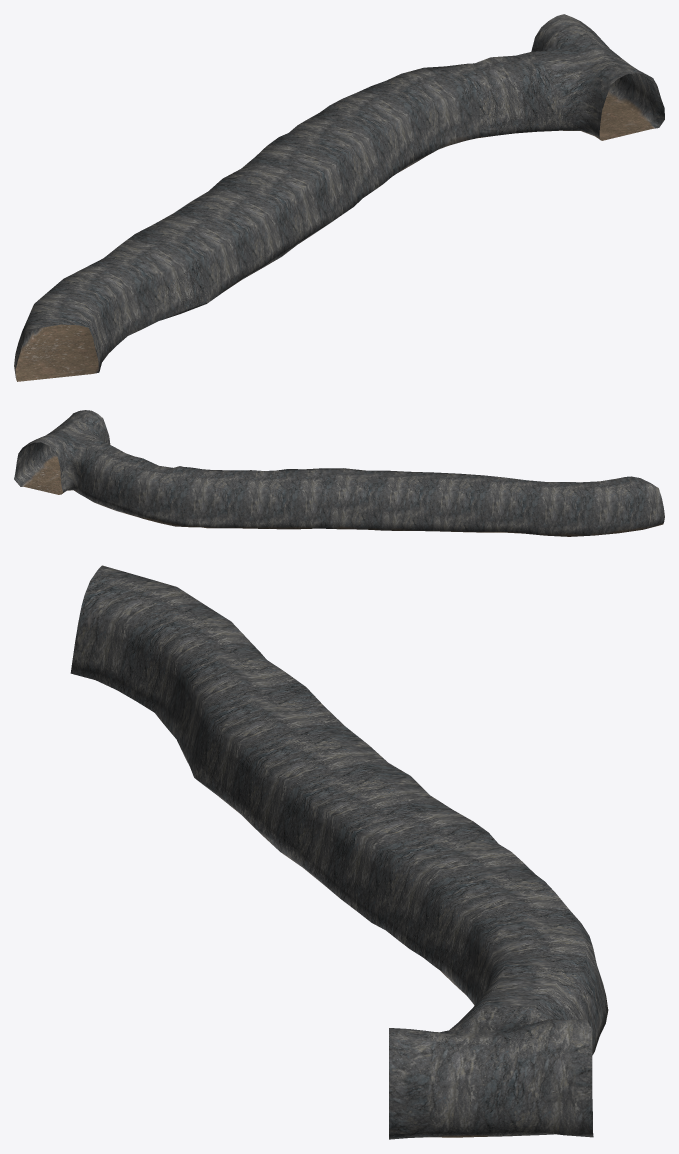
Rendered from piece.obj.
3 views of the same model, one above another, from view 1: azimuth 30°, elevation 25°; view 2: azimuth 150°, elevation 25°; view 3: azimuth 270°, elevation 25° (orthographic). The views are drawn at different scales.
Visible parts, largest first — view 1: TunnelD; view 2: TunnelD; view 3: TunnelD.
Part boxes in pixels (box(x1,y1,x2,y2)): TunnelD: box(14, 14, 664, 381); TunnelD: box(14, 410, 664, 536); TunnelD: box(70, 565, 608, 1139).
Bounding box in the file's own units: 33.49 × 2.92 × 14.71.
1 material, 1 textured.
